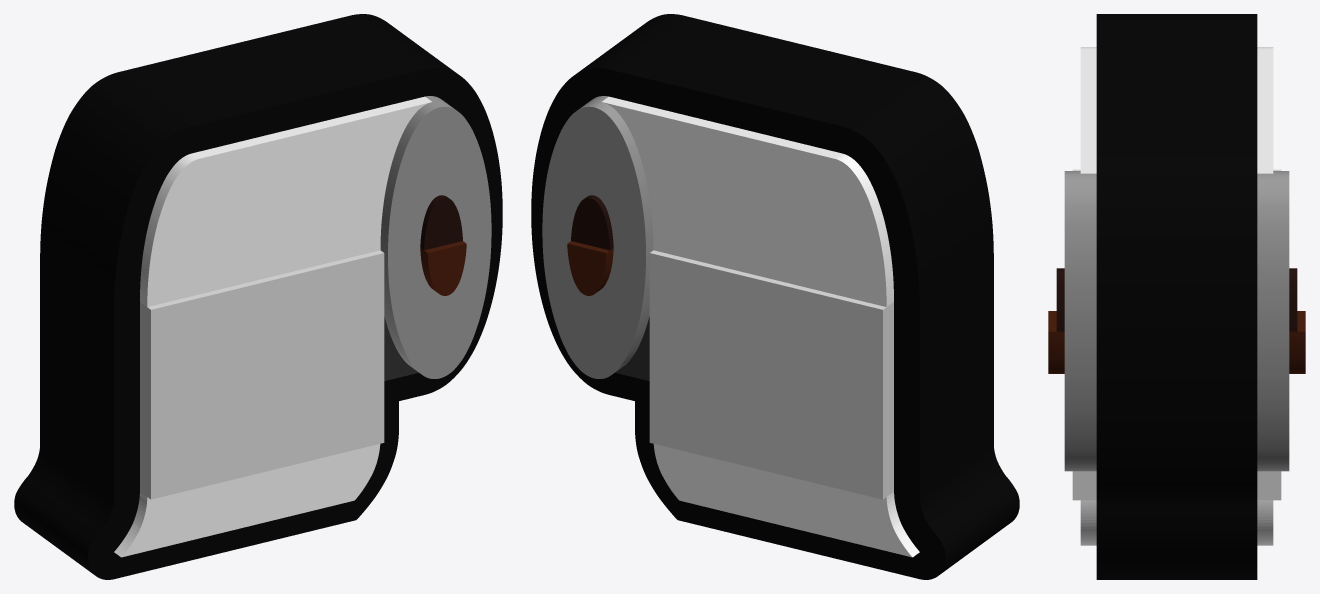
The picture shows the model from 3 angles, left to right: view 1: azimuth 30°, elevation 25°; view 2: azimuth 150°, elevation 25°; view 3: azimuth 270°, elevation 25°; orthographic projection. The views are drawn at different scales.
Parts seen in each view (by area): view 1: U+1F9FB_layer00_obj00, U+1F9FB_layer02_obj00, U+1F9FB_layer03_obj00, U+1F9FB_layer04_obj00, U+1F9FB_layer06_obj00, U+1F9FB_layer05_obj00, U+1F9FB_layer01_obj00; view 2: U+1F9FB_layer00_obj00, U+1F9FB_layer02_obj00, U+1F9FB_layer03_obj00, U+1F9FB_layer04_obj00, U+1F9FB_layer06_obj00, U+1F9FB_layer05_obj00, U+1F9FB_layer01_obj00; view 3: U+1F9FB_layer00_obj00, U+1F9FB_layer04_obj00, U+1F9FB_layer02_obj00, U+1F9FB_layer06_obj00, U+1F9FB_layer03_obj00, U+1F9FB_layer05_obj00.
Boxes of the visible parts, x1=… form: U+1F9FB_layer00_obj00: x1=14, y1=14, x2=502, y2=579; U+1F9FB_layer02_obj00: x1=114, y1=96, x2=431, y2=557; U+1F9FB_layer03_obj00: x1=140, y1=250, x2=384, y2=499; U+1F9FB_layer04_obj00: x1=380, y1=96, x2=491, y2=378; U+1F9FB_layer06_obj00: x1=420, y1=241, x2=466, y2=295; U+1F9FB_layer05_obj00: x1=420, y1=195, x2=462, y2=250; U+1F9FB_layer01_obj00: x1=384, y1=316, x2=418, y2=380; U+1F9FB_layer00_obj00: x1=531, y1=14, x2=1019, y2=579; U+1F9FB_layer02_obj00: x1=602, y1=96, x2=919, y2=557; U+1F9FB_layer03_obj00: x1=649, y1=250, x2=893, y2=499; U+1F9FB_layer04_obj00: x1=542, y1=96, x2=653, y2=378; U+1F9FB_layer06_obj00: x1=567, y1=241, x2=613, y2=295; U+1F9FB_layer05_obj00: x1=571, y1=195, x2=613, y2=250; U+1F9FB_layer01_obj00: x1=615, y1=316, x2=649, y2=380; U+1F9FB_layer00_obj00: x1=1096, y1=14, x2=1257, y2=579; U+1F9FB_layer04_obj00: x1=1064, y1=171, x2=1289, y2=471; U+1F9FB_layer02_obj00: x1=1080, y1=47, x2=1273, y2=545; U+1F9FB_layer06_obj00: x1=1048, y1=311, x2=1305, y2=373; U+1F9FB_layer03_obj00: x1=1072, y1=169, x2=1281, y2=500; U+1F9FB_layer05_obj00: x1=1056, y1=268, x2=1297, y2=331.
Size of the model in its own units: 0.6491 by 0.649 by 0.32.
